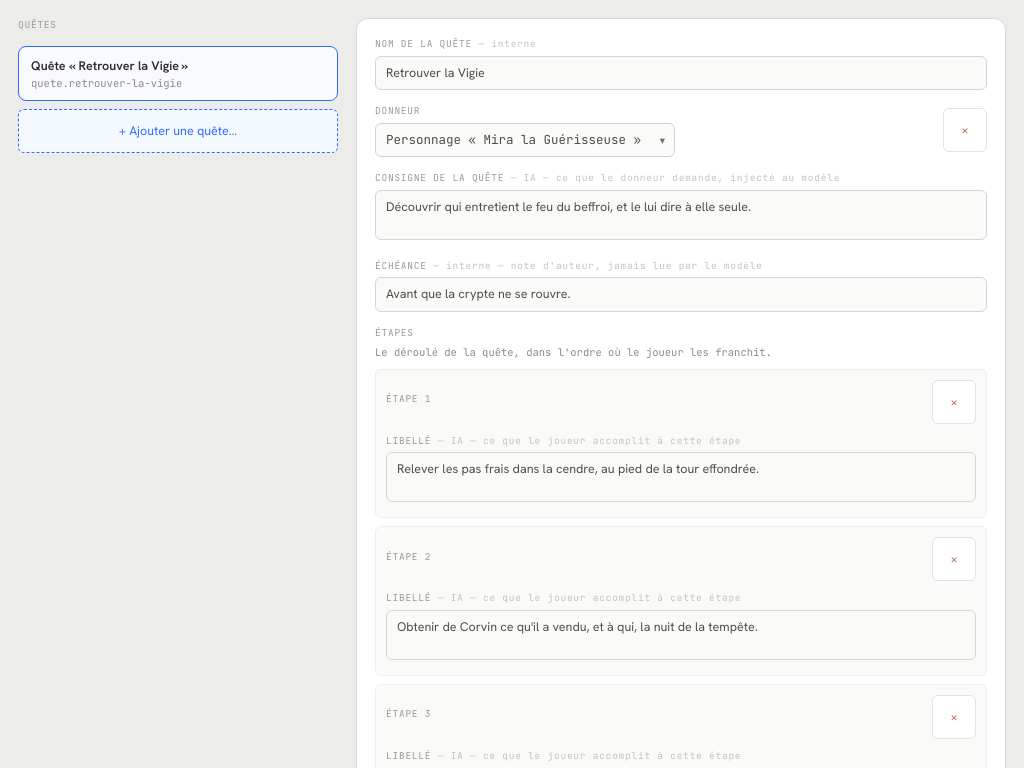
PanneauQuetes › etiquette ETAPE derivee de la position: sequentielle apres retrait du milieu (critere #6)
Expected: the text "ÉTAPE 1" is shown, [386,392,431,406]
Expected: the text "ÉTAPE 2" is shown, [386,550,431,563]
Click the button named "Retirer l'étape n°2" at (954, 559), box [932,537,976,581]
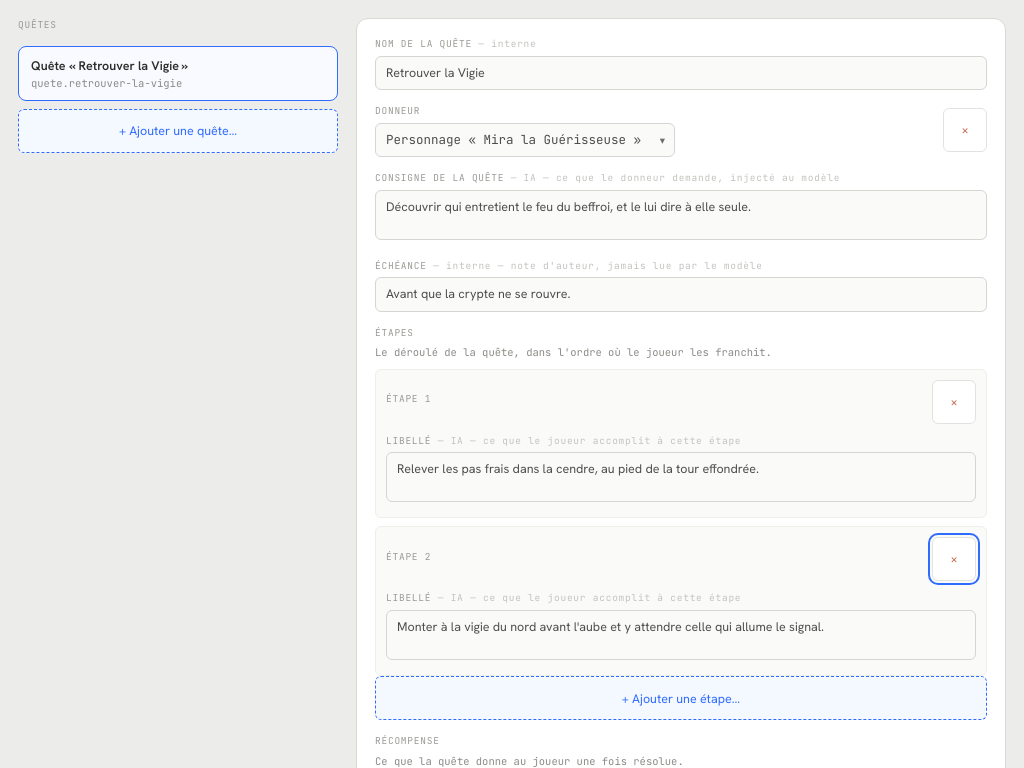
Expected: the text "ÉTAPE 1" is shown, [386,392,431,406]
Expected: the text "ÉTAPE 3" is gone
Expected: the text box labelled "LIBELLÉ — IA — ce que le joueur accomplit à cette étape" below "ÉTAPE 2" holds "Monter à la vigie du nord avant l'aube et y attendre celle qui allume le signal.", [386,610,976,660]
